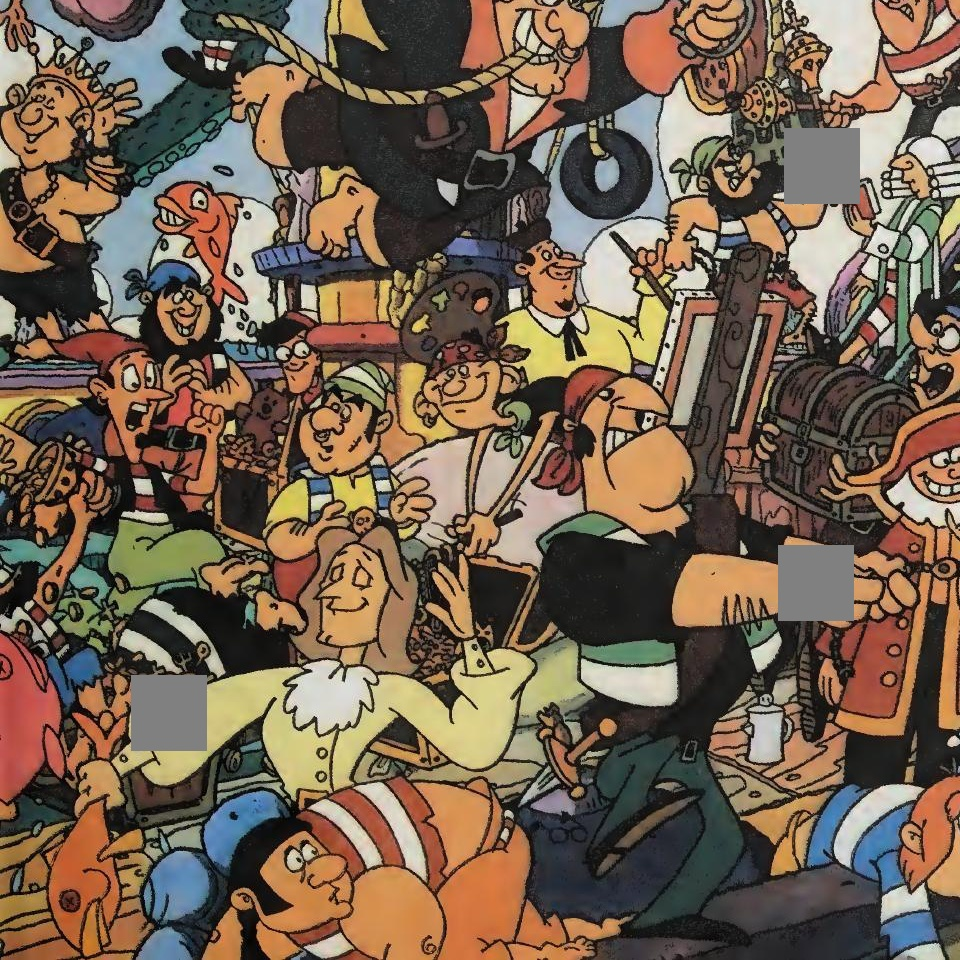waldo: (260, 310, 322, 390)
